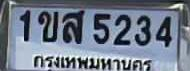1: (20, 9, 30, 41)
2: (113, 14, 130, 44)
3: (134, 14, 150, 45)
4: (155, 15, 171, 46)
5: (92, 13, 110, 43)
A02: (37, 10, 58, 41)
A40: (62, 9, 84, 43)
BKK: (30, 51, 155, 71)
